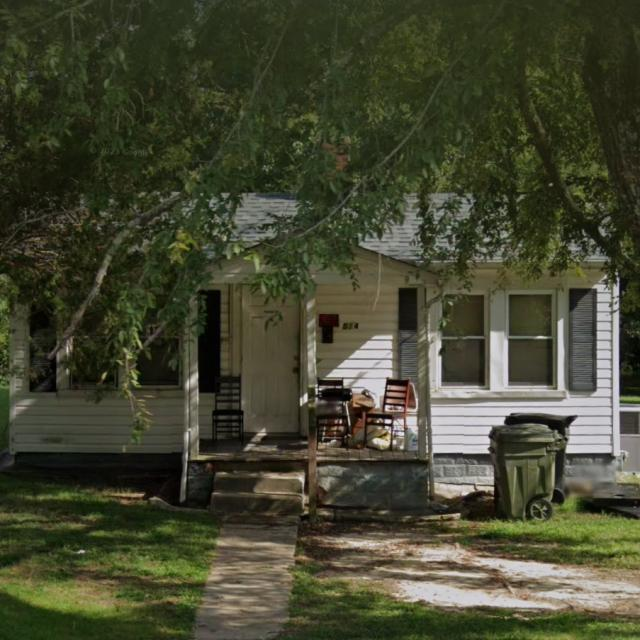House: (6, 143, 622, 520)
